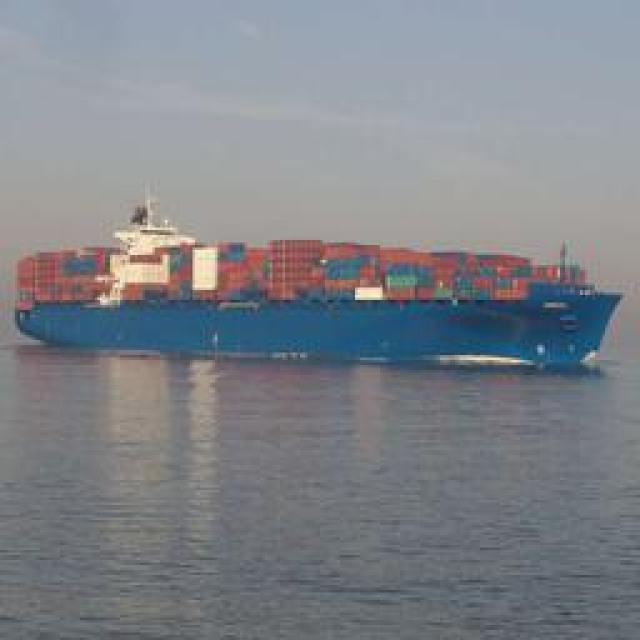CIV_Ship: (12, 222, 622, 370)
